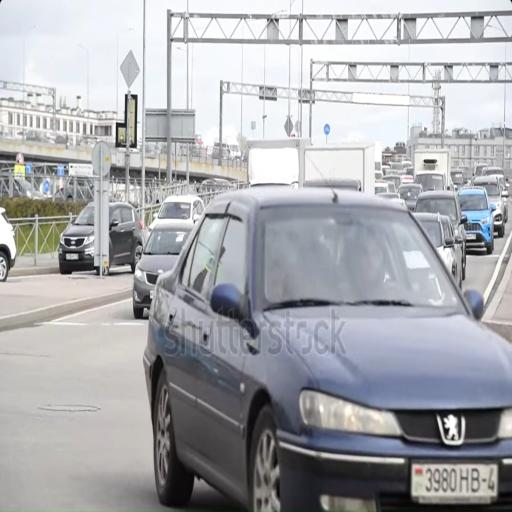License plates: (411, 464, 498, 504), (66, 253, 78, 260), (467, 234, 476, 239), (150, 290, 154, 300)
